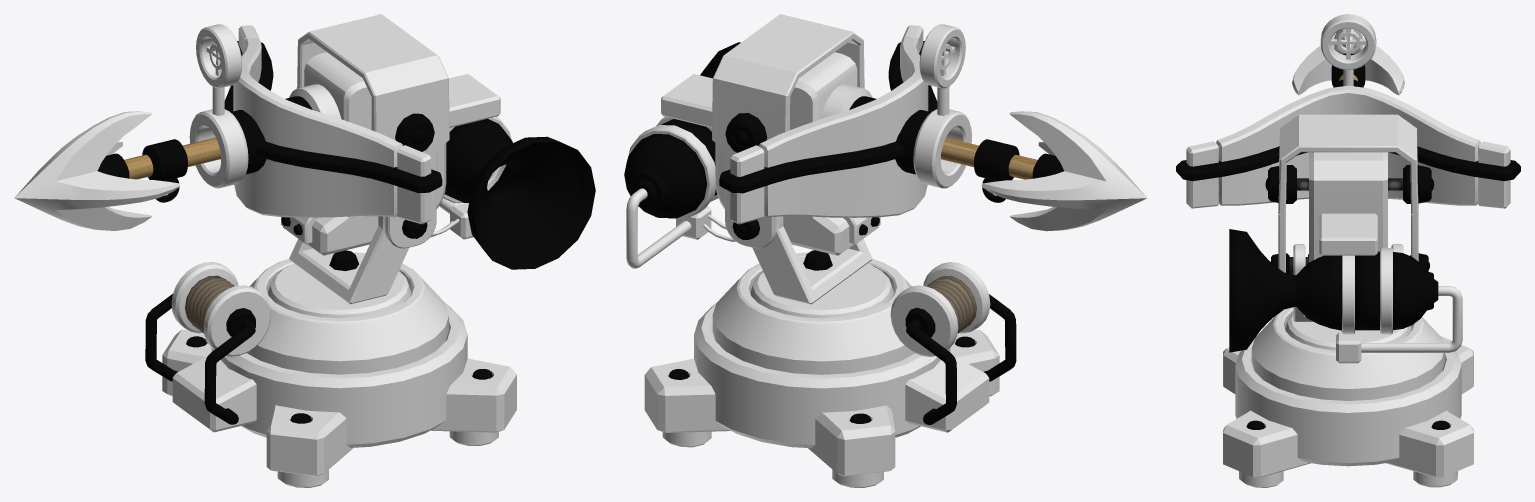
The model's file is HarpoonRed1.fbx.
3 renders of one model, left to right at view 1: azimuth 30°, elevation 25°; view 2: azimuth 150°, elevation 25°; view 3: azimuth 270°, elevation 25°, orthographic. The views are drawn at different scales.
Parts seen in each view (by area): view 1: Harpoon009, Harpoon020, Harpoon001, Harpoon002, Harpoon010, Harpoon033, Harpoon017, Harpoon006, Harpoon019, Harpoon045, Harpoon029, Harpoon038 (+12 smaller); view 2: Harpoon009, Harpoon001, Harpoon002, Harpoon010, Harpoon033, Harpoon017, Harpoon020, Harpoon006, Harpoon019, Harpoon045, Harpoon029, Harpoon038 (+16 smaller); view 3: Harpoon009, Harpoon020, Harpoon001, Harpoon002, Harpoon033, Harpoon010, Harpoon006, Harpoon038, Harpoon017, Harpoon008, Harpoon021, Harpoon028 (+7 smaller).
Boxes of the visible parts, x1,y1,x2,y2 form: Harpoon009: (233,25,431,224); Harpoon020: (444,118,595,269); Harpoon001: (211,303,467,447); Harpoon002: (247,252,448,374); Harpoon010: (297,14,449,248); Harpoon033: (162,329,516,475); Harpoon017: (14,111,180,230); Harpoon006: (281,52,446,255); Harpoon019: (289,216,408,304); Harpoon045: (171,262,271,356); Harpoon029: (267,256,411,318); Harpoon038: (224,41,442,192); Harpoon009: (730,25,928,224); Harpoon001: (694,304,950,448); Harpoon002: (712,252,914,374); Harpoon010: (712,14,864,248); Harpoon033: (644,329,999,476); Harpoon017: (981,111,1147,231); Harpoon020: (624,42,740,218); Harpoon006: (715,52,880,255); Harpoon019: (752,216,872,304); Harpoon045: (890,262,990,356); Harpoon029: (750,256,893,318); Harpoon038: (719,41,937,193); Harpoon009: (1186,85,1510,208); Harpoon020: (1229,229,1438,352); Harpoon001: (1235,338,1461,466); Harpoon002: (1251,307,1445,400); Harpoon033: (1223,335,1473,477); Harpoon010: (1278,114,1418,272); Harpoon006: (1309,152,1387,262); Harpoon038: (1176,146,1520,181); Harpoon017: (1292,28,1404,95); Harpoon008: (1319,213,1377,255); Harpoon021: (1342,248,1392,334); Harpoon028: (1265,165,1434,273).
Bounding box in the file's own units: 626 × 492 × 412.
8 materials, 2 textured.
